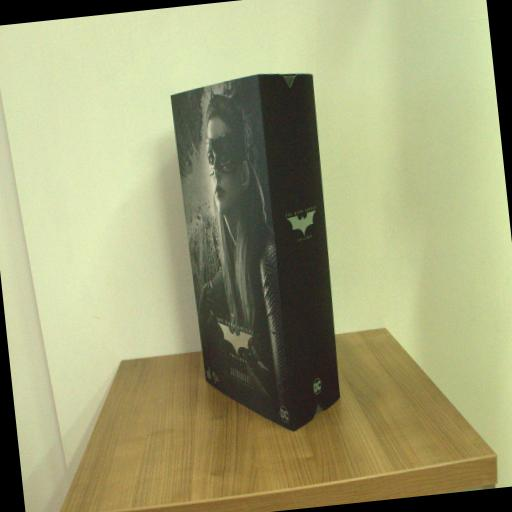catwoman: (170, 70, 350, 441)
